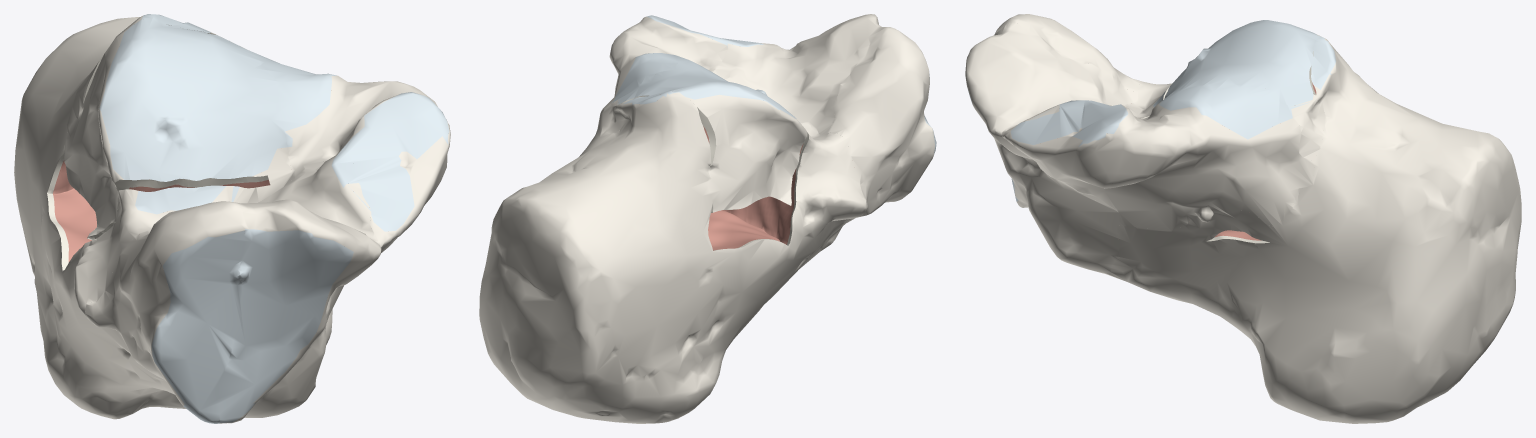
File: G-2B-AC_young.glb
The picture shows the model from 3 angles, left to right: view 1: azimuth 30°, elevation 25°; view 2: azimuth 150°, elevation 25°; view 3: azimuth 270°, elevation 25°; orthographic projection. The views are drawn at different scales.
Visible parts, largest first — view 1: calcaneus: tuberosity, calcaneus: depressed lateral joint fragment, calcaneus: central anterior process (zones B) fragment, calcaneus: anterolateral (zone A) fragment, calcaneus: sustentacular fragment; view 2: calcaneus: tuberosity, calcaneus: depressed lateral joint fragment, calcaneus: anterolateral (zone A) fragment, calcaneus: central anterior process (zones B) fragment, calcaneus: sustentacular fragment; view 3: calcaneus: tuberosity, calcaneus: sustentacular fragment, calcaneus: central anterior process (zones B) fragment, calcaneus: depressed lateral joint fragment, calcaneus: anterolateral (zone A) fragment.
Boxes of the visible parts, x1,y1,x2,y2 form: calcaneus: tuberosity: (14, 14, 332, 419); calcaneus: depressed lateral joint fragment: (63, 18, 290, 239); calcaneus: central anterior process (zones B) fragment: (217, 149, 381, 423); calcaneus: anterolateral (zone A) fragment: (85, 201, 245, 423); calcaneus: sustentacular fragment: (249, 50, 450, 252); calcaneus: tuberosity: (479, 91, 866, 423); calcaneus: depressed lateral joint fragment: (590, 63, 807, 212); calcaneus: anterolateral (zone A) fragment: (824, 27, 936, 245); calcaneus: central anterior process (zones B) fragment: (715, 14, 885, 250); calcaneus: sustentacular fragment: (592, 15, 783, 139); calcaneus: tuberosity: (1106, 34, 1521, 423); calcaneus: sustentacular fragment: (996, 83, 1314, 230); calcaneus: central anterior process (zones B) fragment: (965, 23, 1137, 274); calcaneus: depressed lateral joint fragment: (1147, 20, 1326, 203); calcaneus: anterolateral (zone A) fragment: (995, 14, 1140, 92).
Size of the model in its own units: 0.0475 by 0.0513 by 0.0757.
